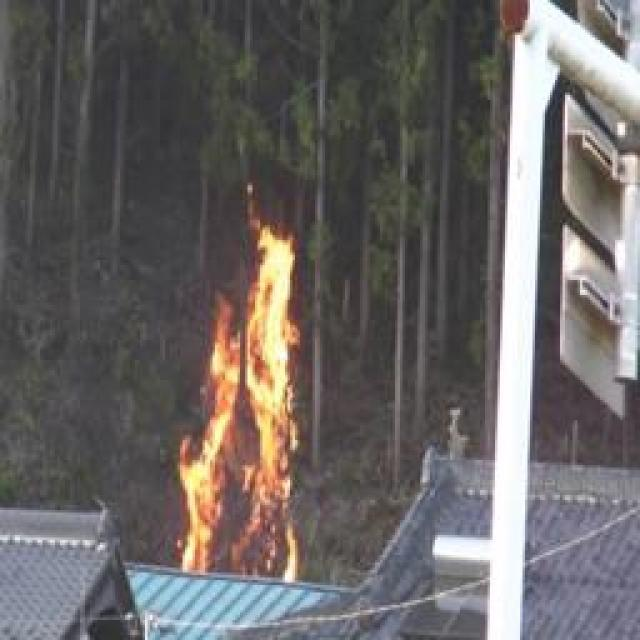Fire: (183, 212, 305, 586)
